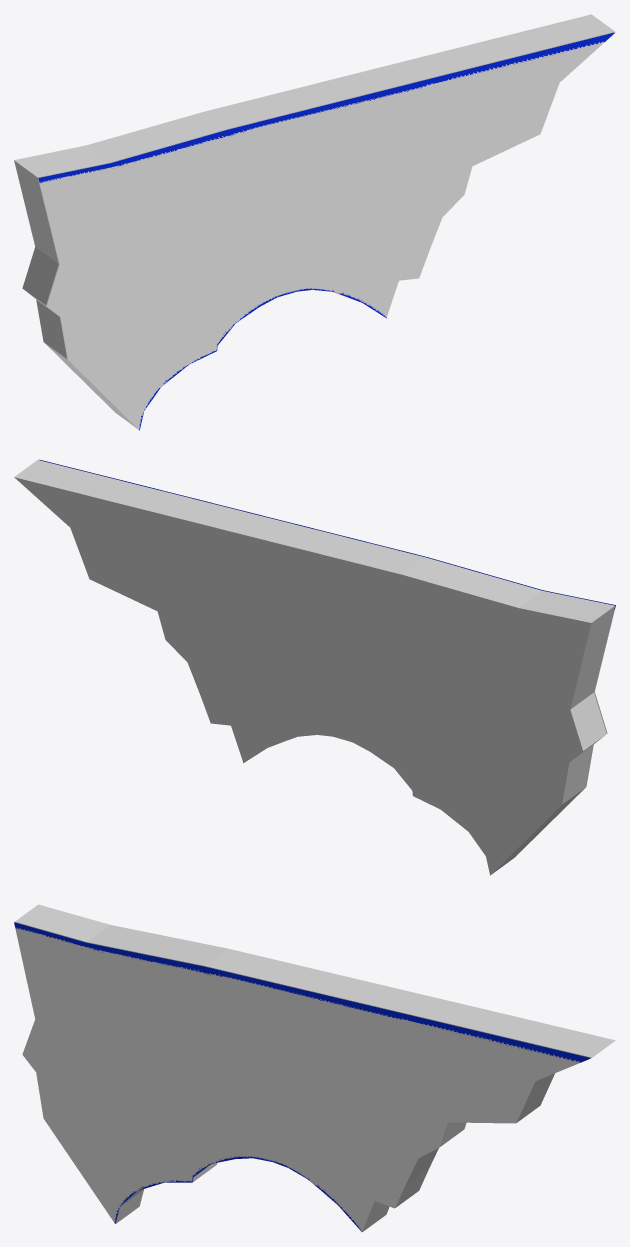
The picture shows the model from 3 angles, top to bottom: view 1: azimuth 30°, elevation 25°; view 2: azimuth 150°, elevation 25°; view 3: azimuth 330°, elevation 25°; orthographic projection.
Visible parts, largest first — view 1: Out_1_1, Out_1_0; view 2: Out_1_0, Out_1_1; view 3: Out_1_1, Out_1_0.
Boxes of the visible parts, box(x1,y1,x2,y2) form: Out_1_1: box(38, 32, 615, 430); Out_1_0: box(14, 14, 614, 429); Out_1_0: box(14, 460, 614, 875); Out_1_1: box(39, 459, 615, 856); Out_1_1: box(14, 922, 590, 1231); Out_1_0: box(15, 904, 615, 1231).
Size of the model in its own units: 7.04 by 3.29 by 0.515.
Materials: 2 (1 with a texture image).
